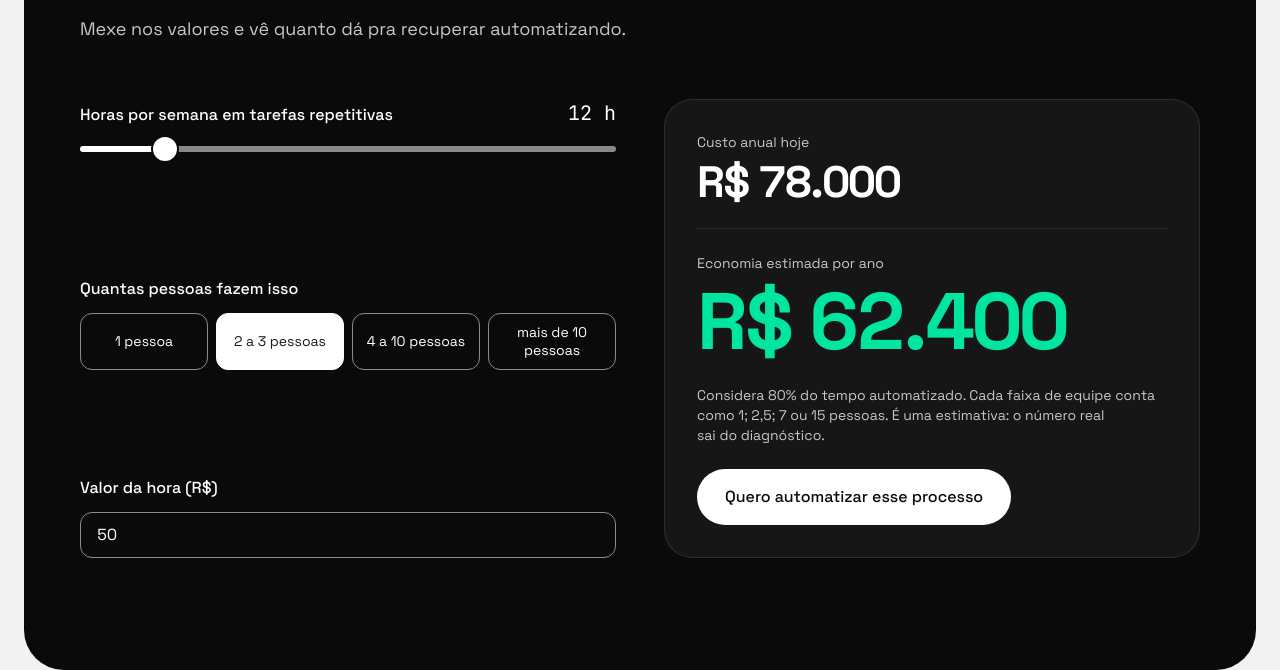
Test case: RoiSimulator hourly rate feedback (X:M-18) › says why a negative rate counts as R$ 0, and marks the field invalid and described by the note
(page scrolled)
Replace the text in the number field labelled "Valor da hora (R$)" with "-5" at (348, 535), box [80,512,616,558]
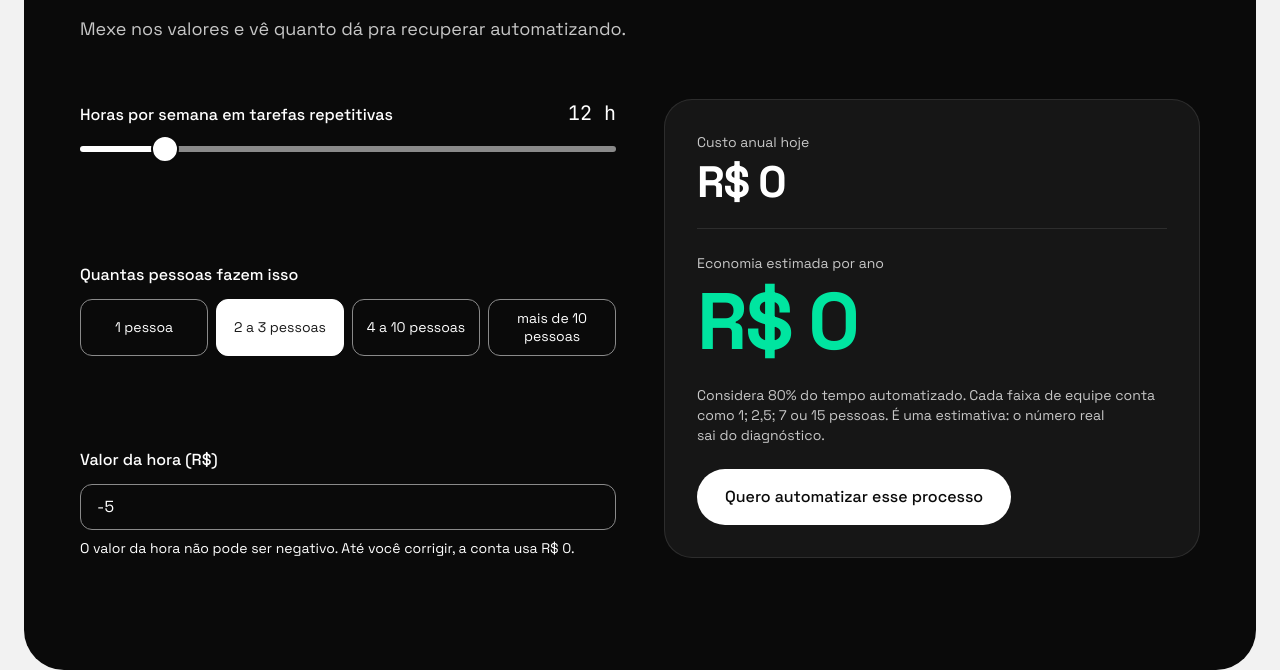
Check: the number field labelled "Valor da hora (R$)" is marked as invalid, box [80,484,616,530]
